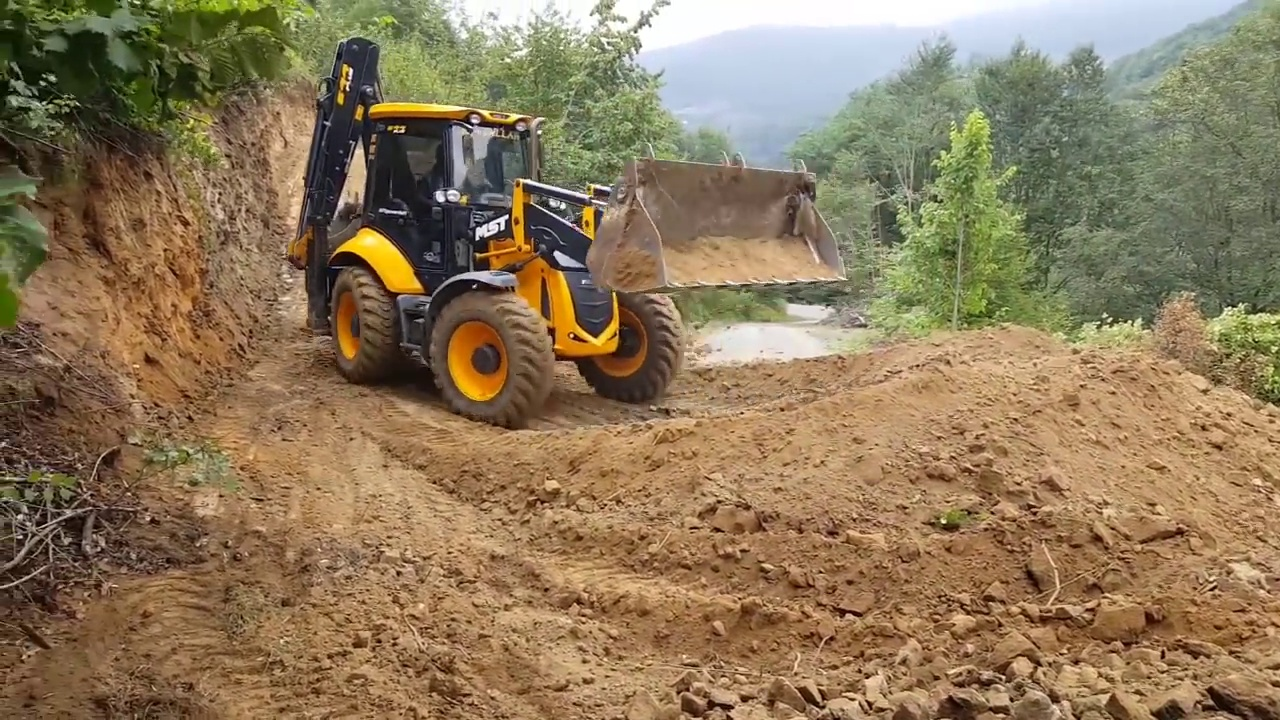wheel loader: (290, 37, 848, 428)
